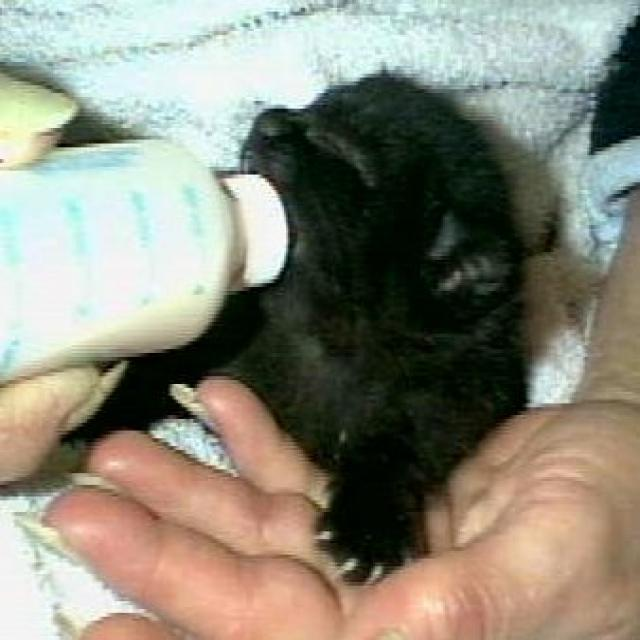Cats: (58, 64, 560, 586)
